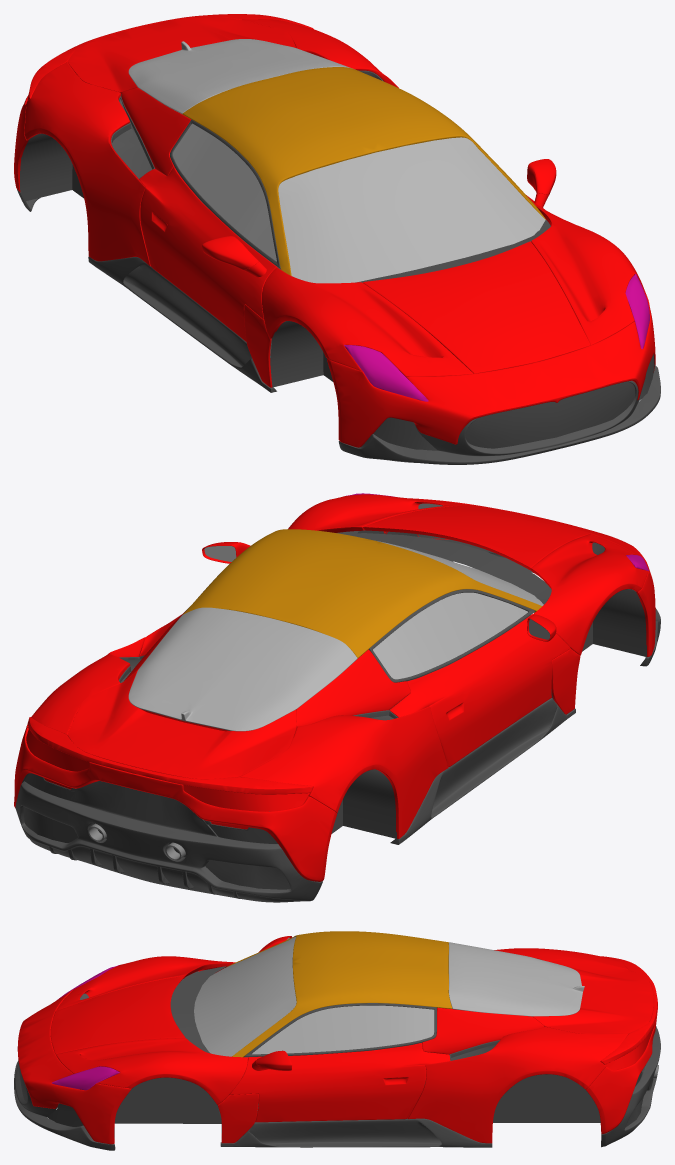
3 views of the same model, one above another, from view 1: azimuth 30°, elevation 25°; view 2: azimuth 150°, elevation 25°; view 3: azimuth 270°, elevation 25° (orthographic). The views are drawn at different scales.
Visible parts, largest first — view 1: MC20_Final; view 2: MC20_Final; view 3: MC20_Final.
Boxes of the visible parts, bbox=[...] form: MC20_Final: bbox=[14, 14, 660, 464]; MC20_Final: bbox=[14, 493, 660, 902]; MC20_Final: bbox=[14, 931, 660, 1150].
Bounding box in the file's own units: 321 × 163 × 683.
